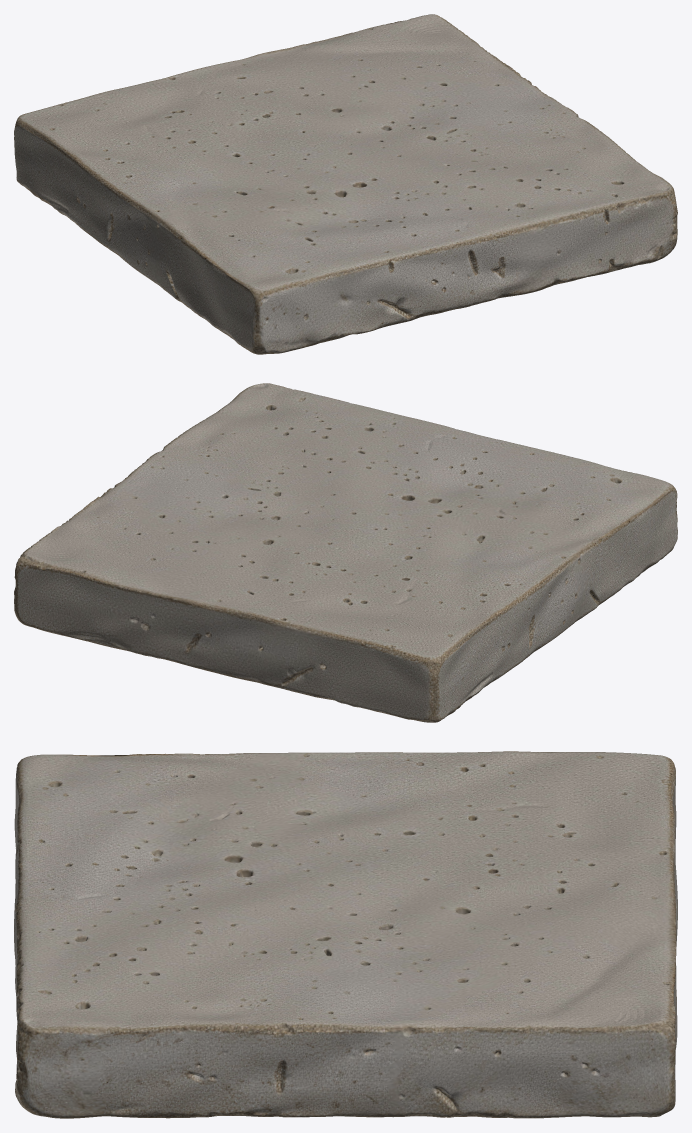
File: panel_slab.glb
3 renders of one model, top to bottom at view 1: azimuth 30°, elevation 25°; view 2: azimuth 150°, elevation 25°; view 3: azimuth 270°, elevation 25°, orthographic. The views are drawn at different scales.
Parts seen in each view (by area): view 1: tripo_node_7273629e-ee3f-4da5-a77a-b1927d6b4c12; view 2: tripo_node_7273629e-ee3f-4da5-a77a-b1927d6b4c12; view 3: tripo_node_7273629e-ee3f-4da5-a77a-b1927d6b4c12.
Part boxes in pixels (box(x1,y1,x2,y2)): tripo_node_7273629e-ee3f-4da5-a77a-b1927d6b4c12: box(14, 14, 677, 354); tripo_node_7273629e-ee3f-4da5-a77a-b1927d6b4c12: box(14, 383, 677, 722); tripo_node_7273629e-ee3f-4da5-a77a-b1927d6b4c12: box(14, 751, 677, 1118).
Size of the model in its own units: 0.3038 by 0.05 by 0.3041.
Materials: 1 (1 with a texture image).
